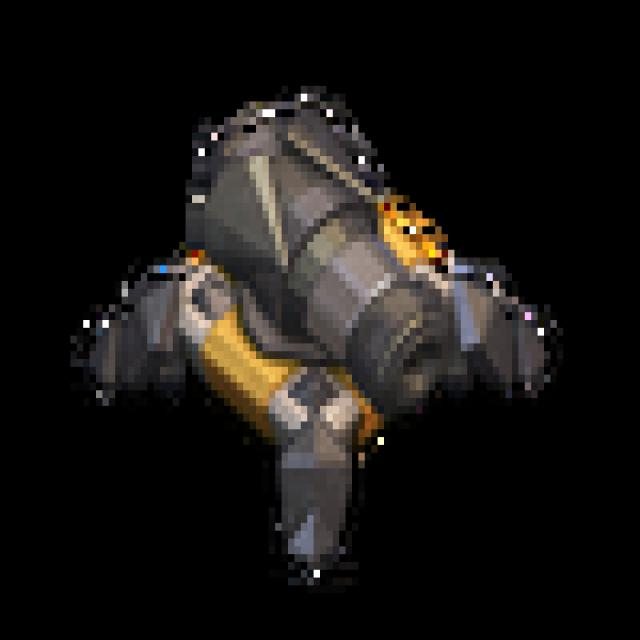cannon: (74, 85, 570, 575)
